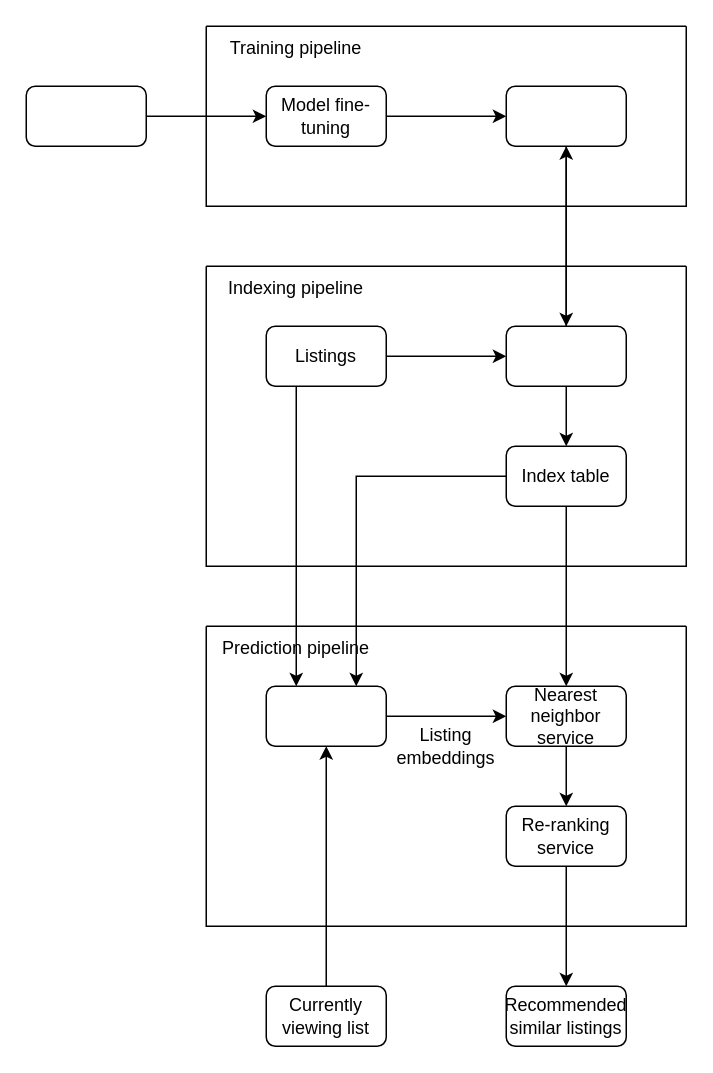
This 713x1073 diagram has some shape labels left out. Here are the shapes that lost their labels. From the top down, the centre of each, then its label:
At [85,115]: "New listings".
At [565,115]: "Trained model".
At [565,355]: "Indexer".
At [325,715]: "Embedding fetcher service".
